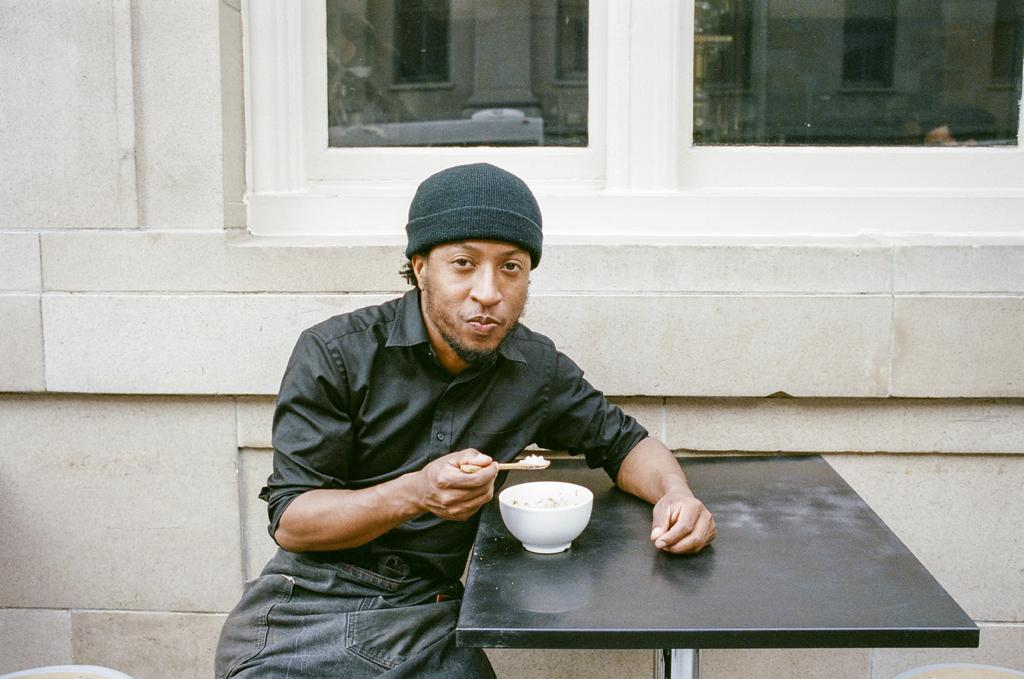Hat: (400, 159, 558, 271)
